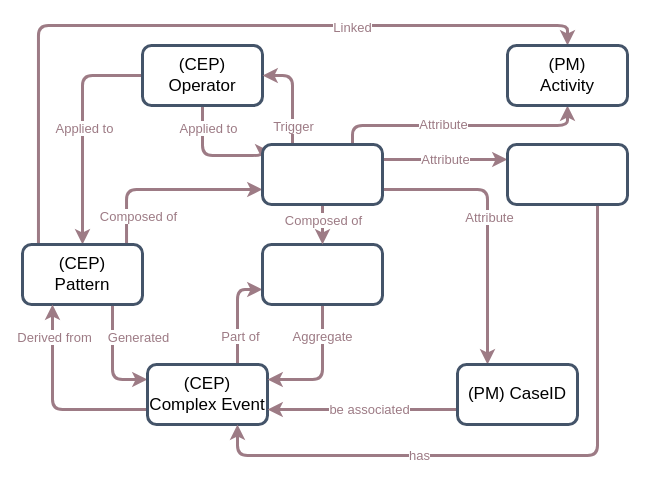
The diagram is 646 pixels wide and 482 high, and some of its shapes have lost their labels. The centre of each missing label's shape, as x and y in pixels:
"(CEP) Event Stream" goes at point (322, 274).
"(PM & CEP) Event" goes at point (322, 174).
"(PM) Timestamp" goes at point (567, 174).
